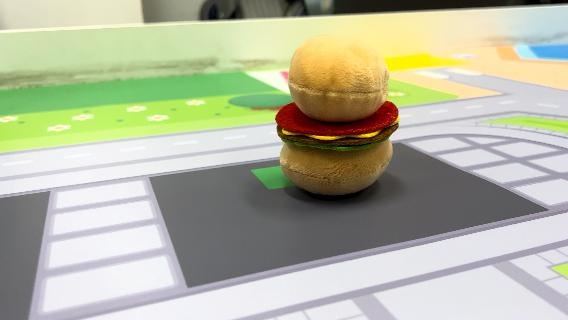burger: (272, 32, 404, 198)
